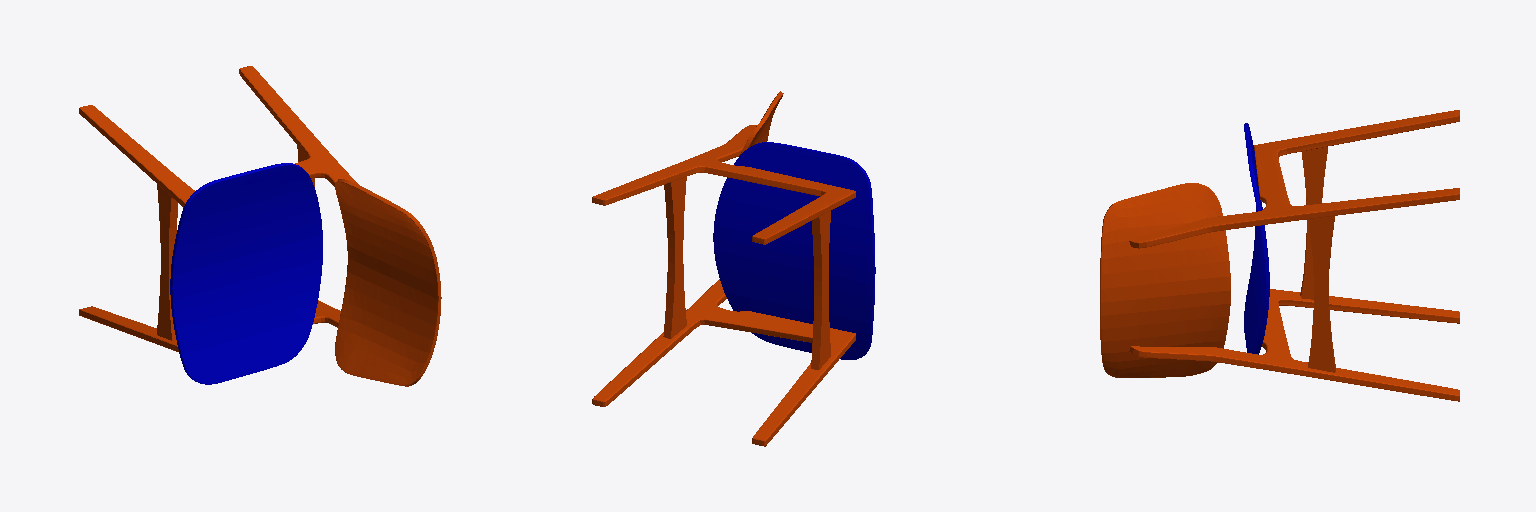
The model's file is Chair.obj.
The picture shows the model from 3 angles: view 1: azimuth 30°, elevation 25°; view 2: azimuth 150°, elevation 25°; view 3: azimuth 270°, elevation 25°; orthographic projection.
Visible parts, largest first — view 1: seat_L_Plane.002, backrest_L_Plane.003, frame_L_Cube.005, crossbar_front_L_Cube.006; view 2: seat_L_Plane.002, frame_L_Cube.005, crossbar_back_L_Cube.007, crossbar_front_L_Cube.006, backrest_L_Plane.003; view 3: backrest_L_Plane.003, frame_L_Cube.005, crossbar_back_L_Cube.007, seat_L_Plane.002, crossbar_front_L_Cube.006.
Part boxes in pixels (x1,y1,x2,y2): seat_L_Plane.002: (170,163,322,384); backrest_L_Plane.003: (335,179,441,386); frame_L_Cube.005: (79,66,358,351); crossbar_front_L_Cube.006: (157,184,177,340); seat_L_Plane.002: (713,142,875,359); frame_L_Cube.005: (592,125,855,446); crossbar_back_L_Cube.007: (663,177,686,338); crossbar_front_L_Cube.006: (811,211,830,369); backrest_L_Plane.003: (740,91,783,154); backrest_L_Plane.003: (1100,183,1230,377); frame_L_Cube.005: (1129,110,1459,401); crossbar_back_L_Cube.007: (1308,216,1335,372); seat_L_Plane.002: (1244,123,1269,354); crossbar_front_L_Cube.006: (1300,147,1327,299).
Bounding box in the file's own units: 4.88 × 5.06 × 7.95.